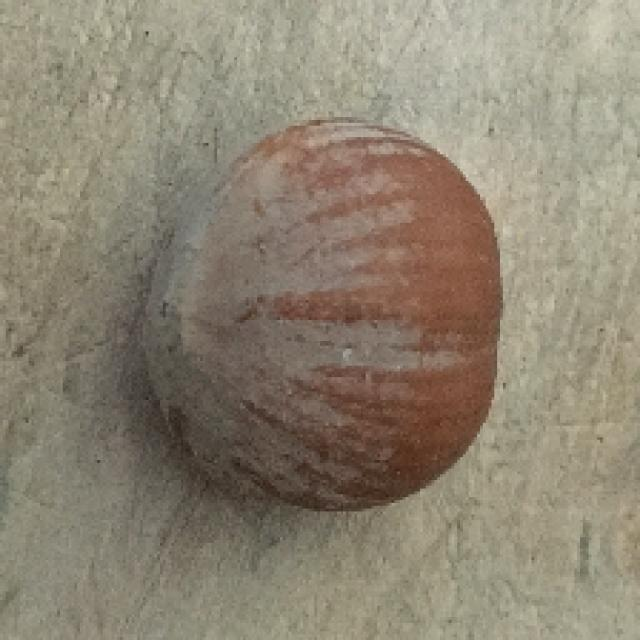QualityHazelnut: (143, 119, 506, 512)
